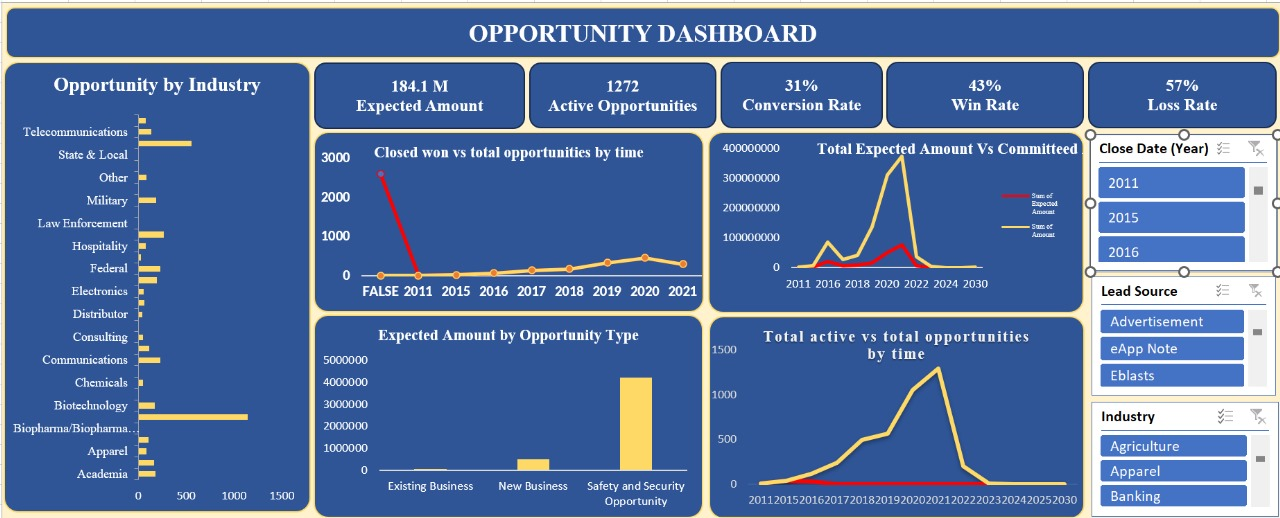

Layout of this report page (visuals, bound fields, positions):
{"tool":"tableau","page":{"name":"Dashboard 1","canvas":[1000,1000],"units":"permille","ordinal":0},"visuals":[{"type":"title","box":[5,10.7,874.1,96.5]},{"type":"legend","title":"Trend Analysis 1","param":"[federated.0xgod2t0dg6wuy1am608w0igmv4u].[:Measure Names]","box":[879.1,10.7,116,112.6]},{"type":"worksheet","title":"Expected Amount","mark":"Automatic","box":[5,107.2,175.2,194.4]},{"type":"worksheet","title":"Active Opportunities","mark":"Automatic","rows":["Closed"],"box":[180.2,107.2,175.2,194.4]},{"type":"worksheet","title":"Conversion Rate","mark":"Automatic","box":[355.4,107.2,174.6,194.4]},{"type":"worksheet","title":"Win Rate","mark":"Automatic","box":[529.9,107.2,174.6,194.4]},{"type":"worksheet","title":"Loss Rate","mark":"Automatic","box":[704.5,107.2,174.6,194.4]},{"type":"filter","title":"Trend Analysis 1","param":"[federated.0xgod2t0dg6wuy1am608w0igmv4u].[none:Close Date:qk]","box":[879.1,123.3,116,103.2]},{"type":"filter","title":"Trend Analysis 3","param":"[federated.0xgod2t0dg6wuy1am608w0igmv4u].[none:Opportunity Type:nk]","box":[879.1,226.5,116,234.6]},{"type":"worksheet","title":"Trend Analysis 2","mark":"Line","rows":["Opportunity ID","Won"],"cols":["Close Date"],"box":[5,301.6,874.1,186.3]},{"type":"filter","title":"Trend Analysis 1","param":"[federated.0xgod2t0dg6wuy1am608w0igmv4u].[none:Industry:nk]","box":[879.1,461.1,116,264.1]},{"type":"worksheet","title":"Trend Analysis 1","mark":"Automatic","rows":["Amount","Expected Amount"],"cols":["Close Date"],"box":[5,487.9,291.3,501.4]},{"type":"worksheet","title":"Trend Analysis 3","mark":"Automatic","rows":["Expected Amount"],"cols":["Opportunity Type"],"box":[296.3,487.9,291.4,501.4]},{"type":"worksheet","title":"Opportunities by Industry","mark":"Bar","rows":["Industry"],"cols":["Opportunity ID"],"box":[587.7,487.9,291.4,501.4]},{"type":"filter","title":"Trend Analysis 1","param":"[federated.0xgod2t0dg6wuy1am608w0igmv4u].[none:Lead Source:nk]","box":[879.1,725.2,116,264.1]}]}

Visuals, with their boxes on the dashboard's canvas, which has no fixed pixel size, in thousandths of its width and height (x1, y1, x2, y2). These are canvas units, not pixel positions in the 1280x518 screenshot, which may show the page scaled, cropped or inside an application window:
title: bbox=(5, 11, 879, 107)
"Trend Analysis 1" legend: bbox=(879, 11, 995, 123)
"Expected Amount" worksheet: bbox=(5, 107, 180, 302)
"Active Opportunities" worksheet: bbox=(180, 107, 355, 302)
"Conversion Rate" worksheet: bbox=(355, 107, 530, 302)
"Win Rate" worksheet: bbox=(530, 107, 704, 302)
"Loss Rate" worksheet: bbox=(704, 107, 879, 302)
"Trend Analysis 1" filter: bbox=(879, 123, 995, 226)
"Trend Analysis 3" filter: bbox=(879, 226, 995, 461)
"Trend Analysis 2" worksheet (Line marks): bbox=(5, 302, 879, 488)
"Trend Analysis 1" filter: bbox=(879, 461, 995, 725)
"Trend Analysis 1" worksheet: bbox=(5, 488, 296, 989)
"Trend Analysis 3" worksheet: bbox=(296, 488, 588, 989)
"Opportunities by Industry" worksheet (Bar marks): bbox=(588, 488, 879, 989)
"Trend Analysis 1" filter: bbox=(879, 725, 995, 989)
